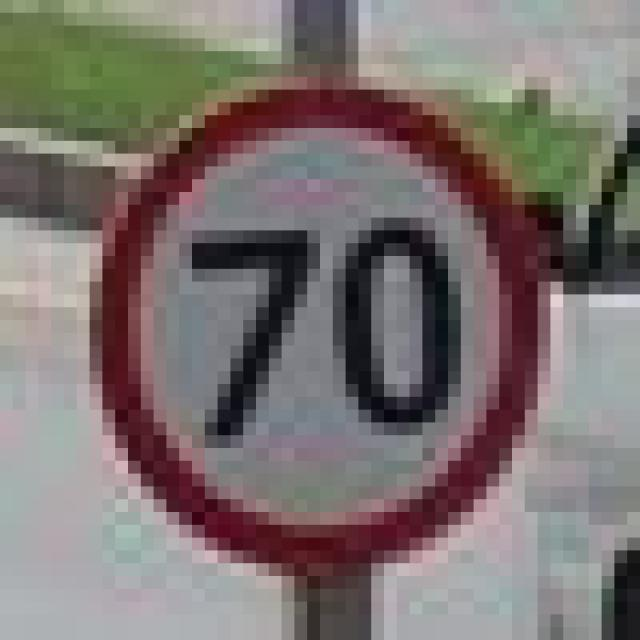SPEED_LIMIT_70: (90, 77, 524, 563)
